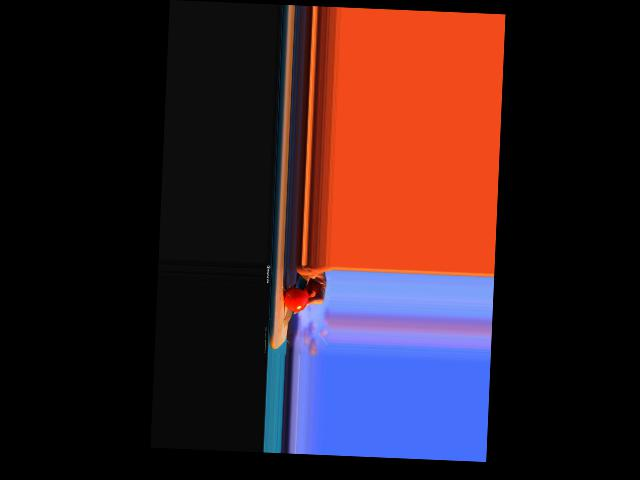tomato: (283, 286, 308, 313)
